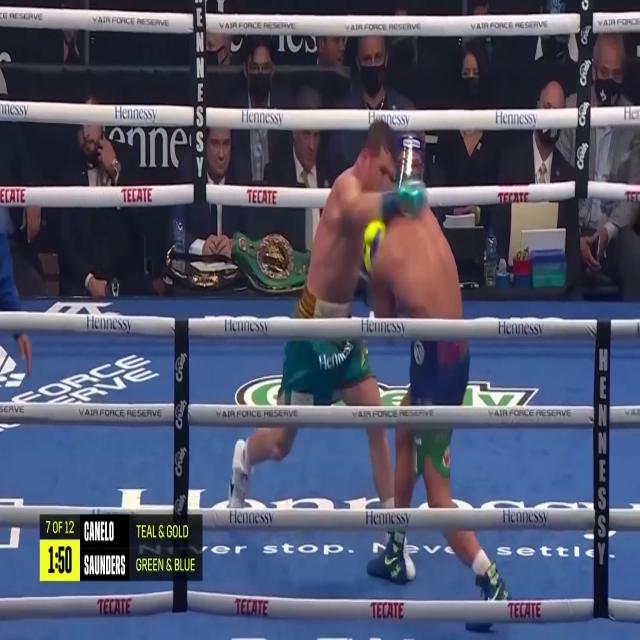boxer_1: (386, 204, 462, 319)
boxer_2: (308, 122, 399, 300)
gloves_1: (363, 218, 386, 279)
gloves_2: (381, 180, 428, 220)
